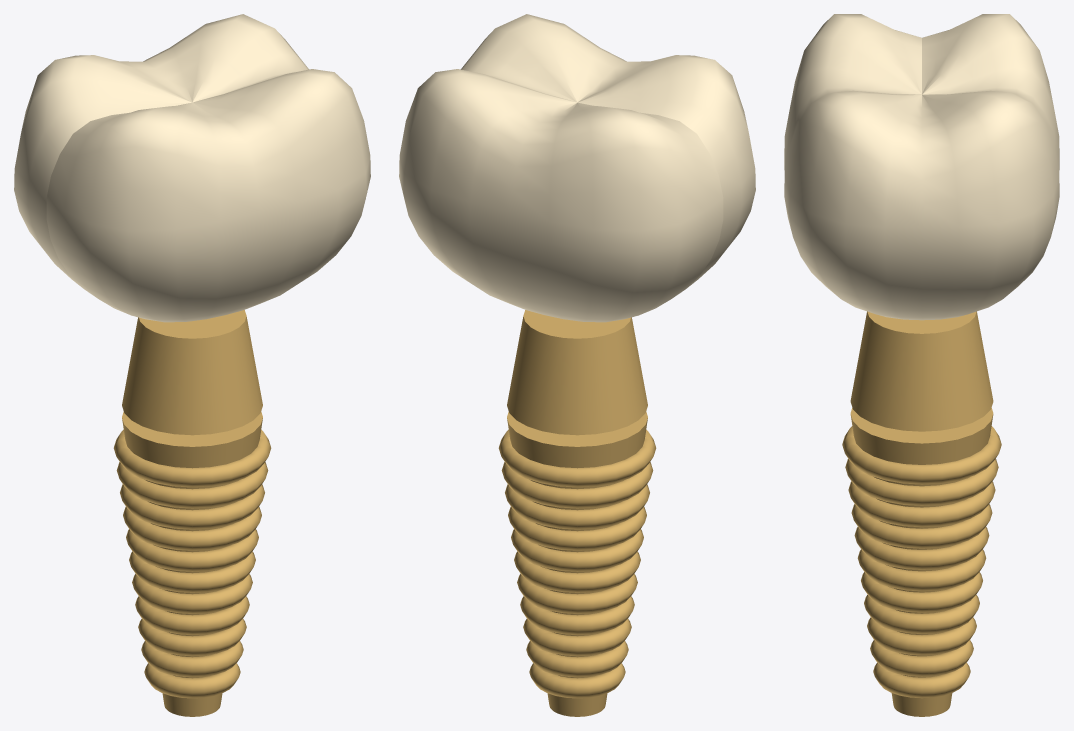
Rendered from dental-mobile.glb.
3 renders of one model, left to right at view 1: azimuth 30°, elevation 25°; view 2: azimuth 150°, elevation 25°; view 3: azimuth 270°, elevation 25°, orthographic.
Parts seen in each view (by area): view 1: crown, fixture, abutment; view 2: crown, fixture, abutment; view 3: crown, fixture, abutment.
Boxes of the visible parts, box(x1,y1,x2,y2) form: crown: box(14, 14, 370, 322); fixture: box(113, 412, 271, 716); abutment: box(122, 310, 262, 435); crown: box(399, 14, 755, 322); fixture: box(498, 412, 656, 716); abutment: box(507, 310, 647, 435); crown: box(784, 14, 1059, 320); fixture: box(842, 408, 1001, 716); abutment: box(850, 311, 993, 431).
Bounding box in the file's own units: 1.44 × 3 × 1.16.
